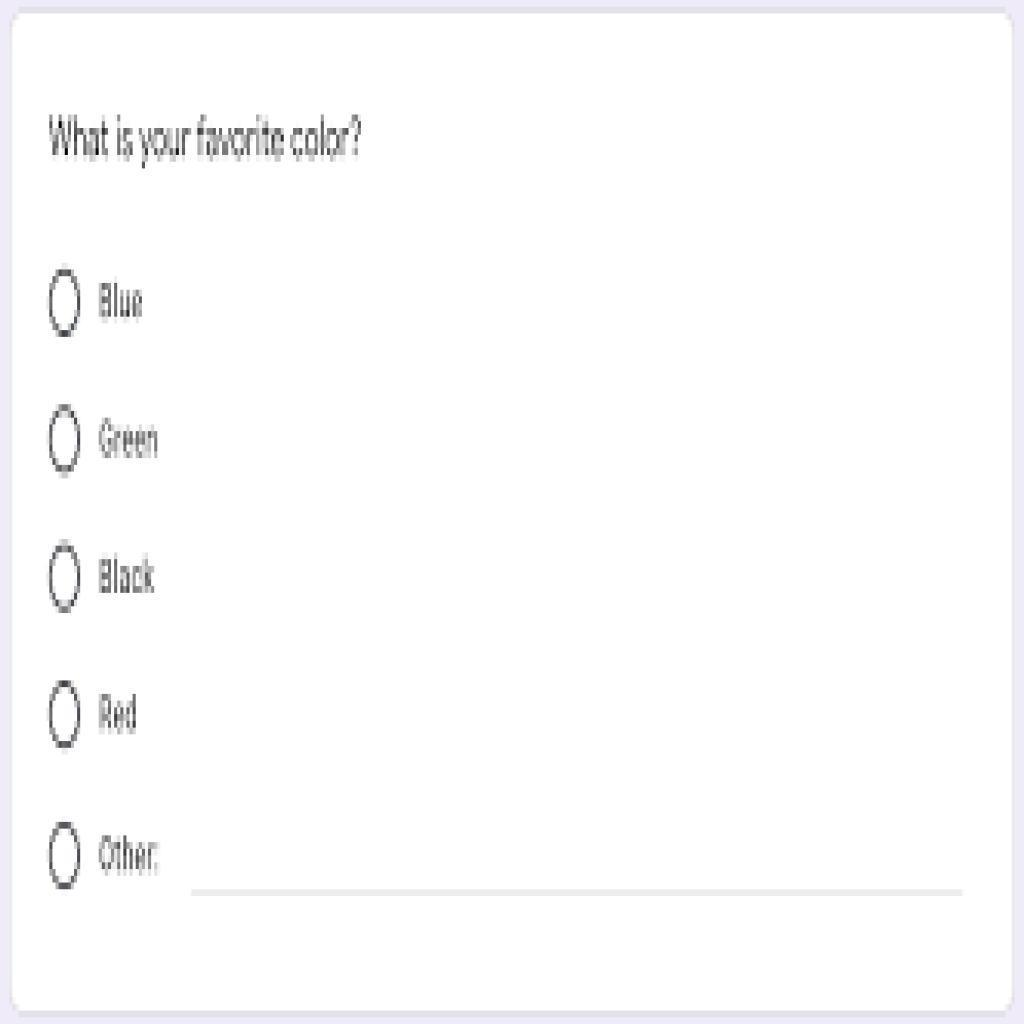radio: (45, 539, 87, 618), (43, 678, 86, 755), (45, 818, 87, 896), (45, 402, 85, 482), (46, 260, 85, 342)
